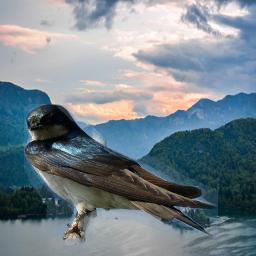Swallow: (24, 104, 218, 245)
